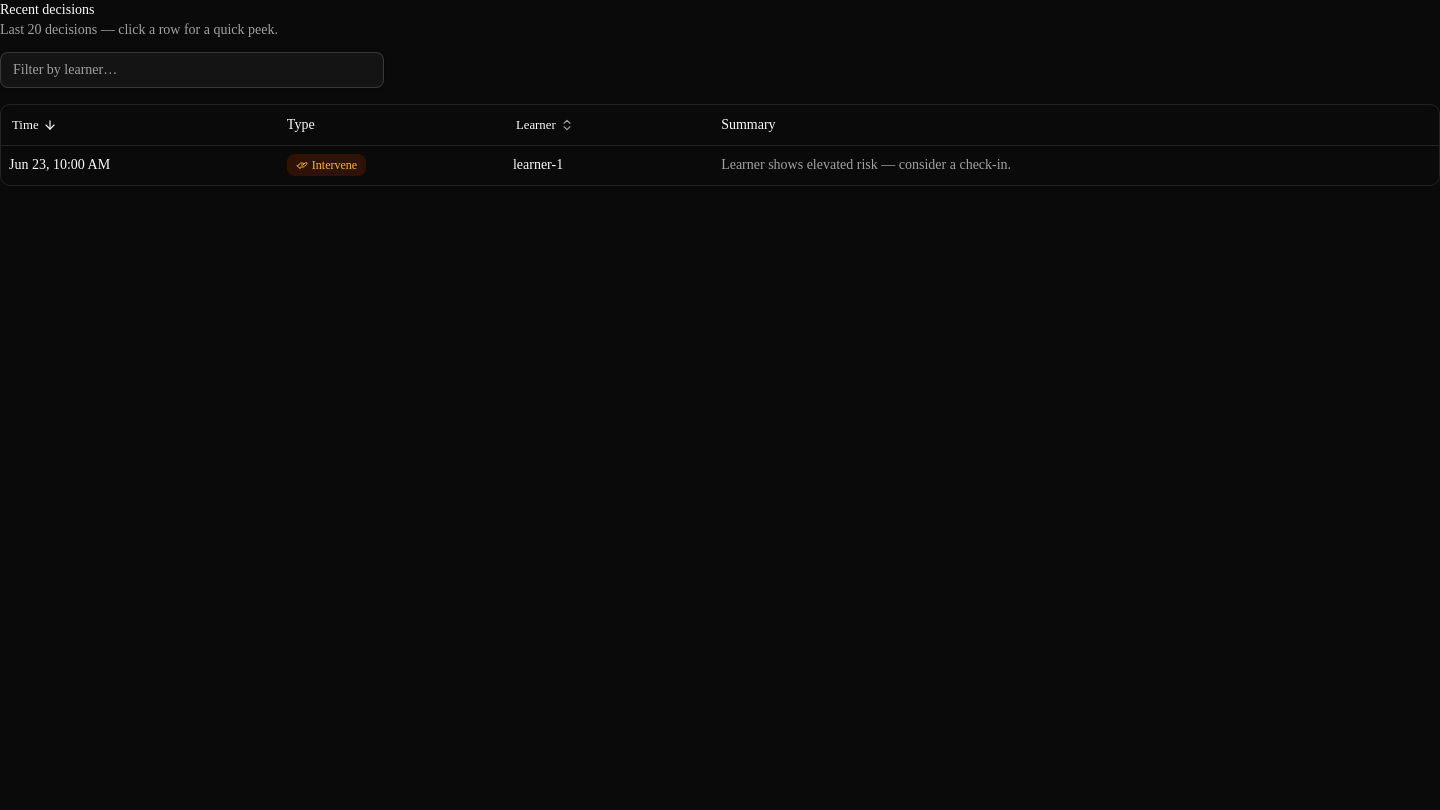
DEC-TBL-001: educator-first L0 columns › opens Sheet with rule id and rationale under Technical detail
Click the button "learner-1" at {"x": 720, "y": 165}, box [1, 145, 1439, 184]
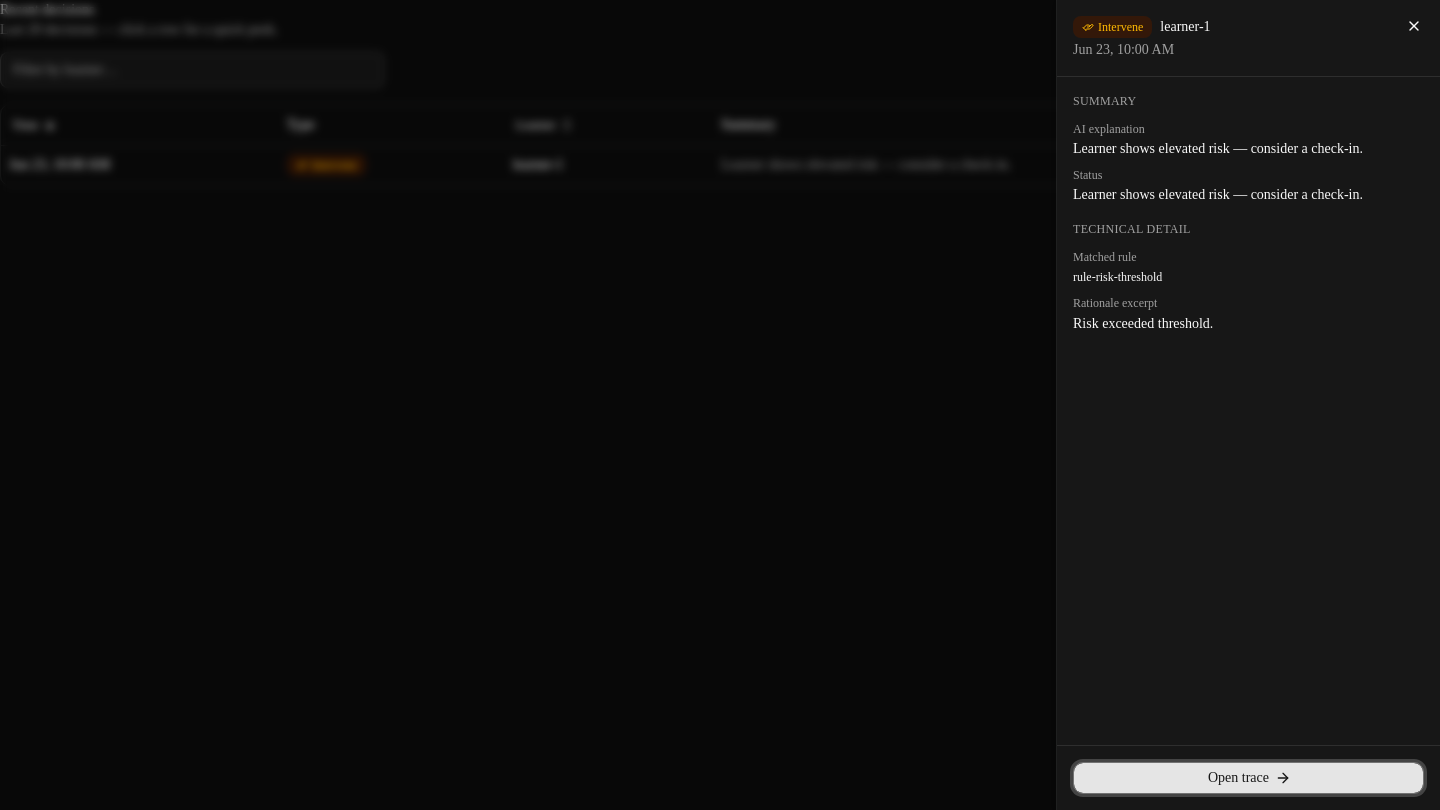
Now the heading "Technical detail" is shown, box [1073, 222, 1191, 236]
Now the text "Matched rule" is shown, box [1073, 250, 1137, 264]
Now the text "rule-risk-threshold" is shown, box [1073, 270, 1162, 284]
